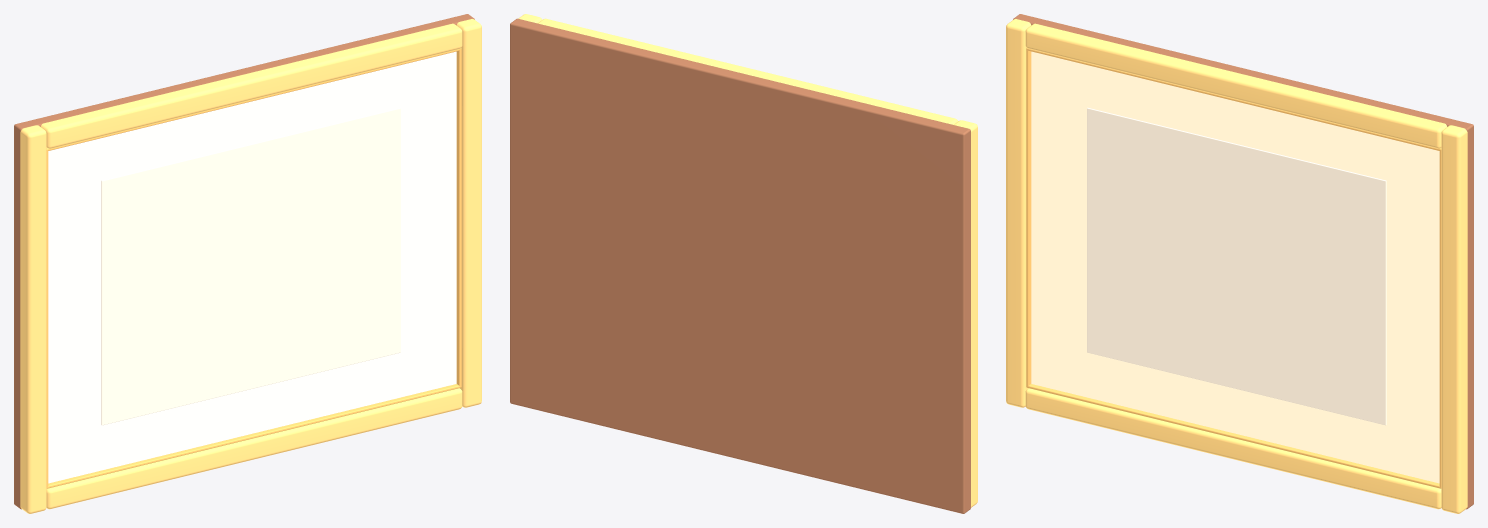
Rendered from salon_gilt_frame.glb.
The picture shows the model from 3 angles, left to right: view 1: azimuth 30°, elevation 25°; view 2: azimuth 150°, elevation 25°; view 3: azimuth 330°, elevation 25°; orthographic projection.
Visible parts, largest first — view 1: salon_gilt_frame; view 2: salon_gilt_frame; view 3: salon_gilt_frame.
Boxes of the visible parts, x1,y1,x2,y2 form: salon_gilt_frame: (14,14,481,513); salon_gilt_frame: (510,14,977,513); salon_gilt_frame: (1006,14,1473,513).
Size of the model in its own units: 1.05 by 0.84 by 0.061.
